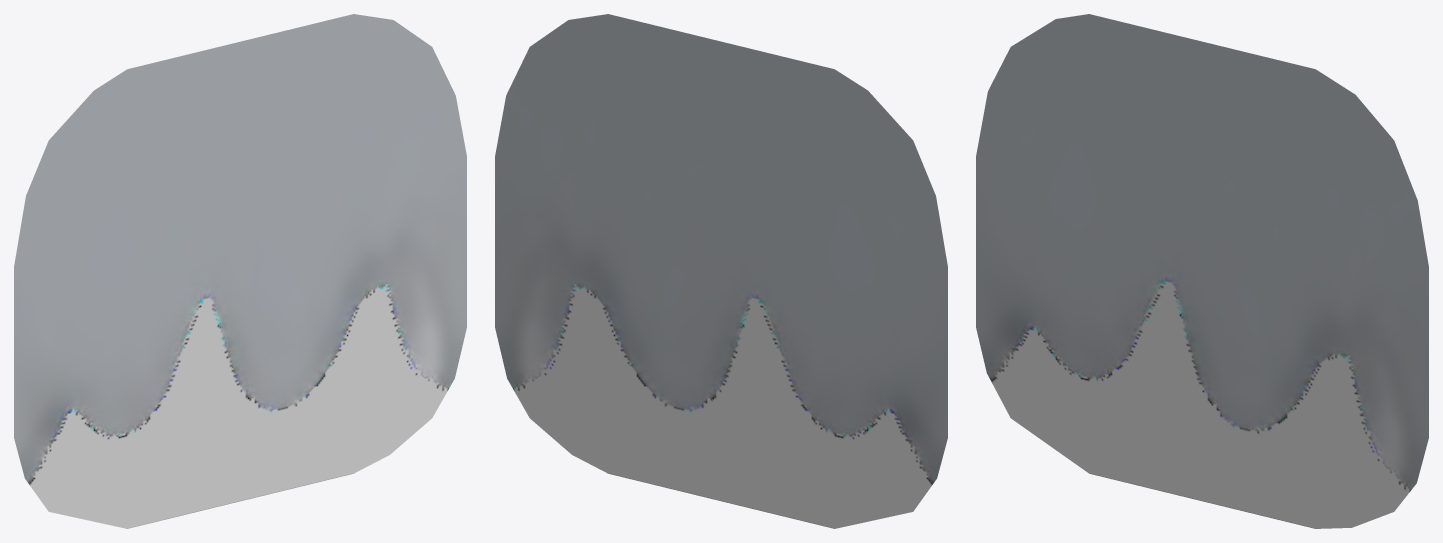
File: God Rays.FBX
The picture shows the model from 3 angles, left to right: view 1: azimuth 30°, elevation 25°; view 2: azimuth 150°, elevation 25°; view 3: azimuth 330°, elevation 25°; orthographic projection.
Parts seen in each view (by area): view 1: God Rays; view 2: God Rays; view 3: God Rays.
Boxes of the visible parts, box(x1,y1,x2,y2) form: God Rays: box(14, 14, 466, 528); God Rays: box(495, 14, 947, 528); God Rays: box(976, 14, 1428, 528).
Size of the model in its own units: 400 by 6.52e-05 by 388.
